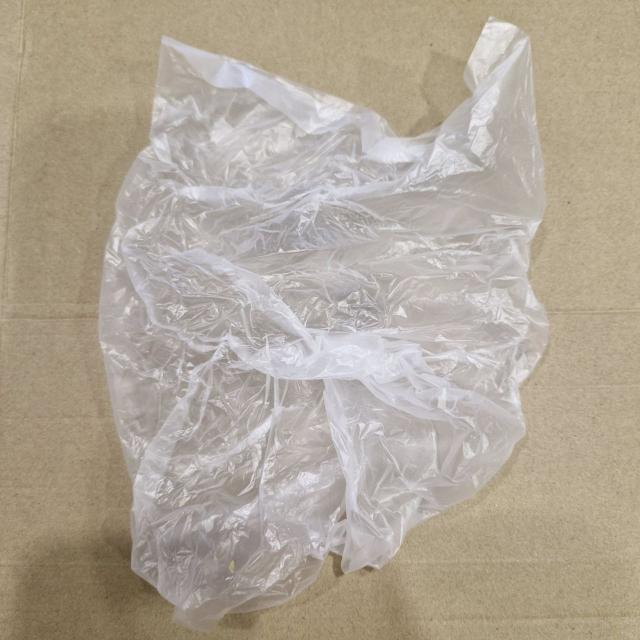plastic: (94, 22, 550, 624)
